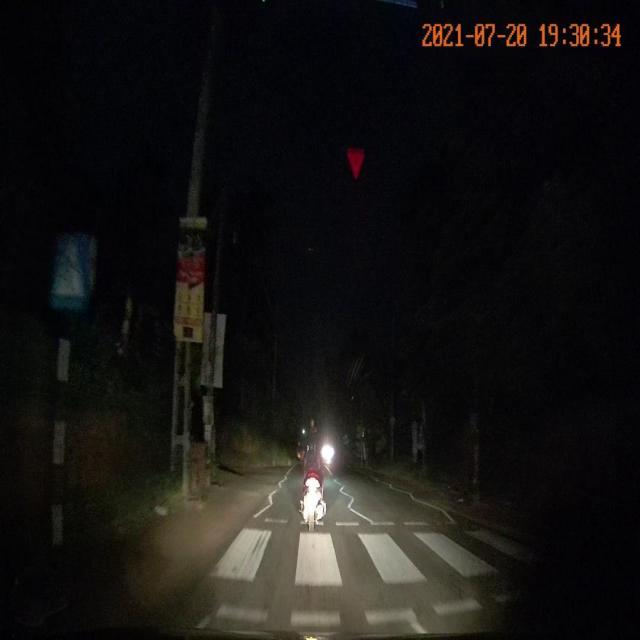Crosswalk: (183, 512, 547, 631)
